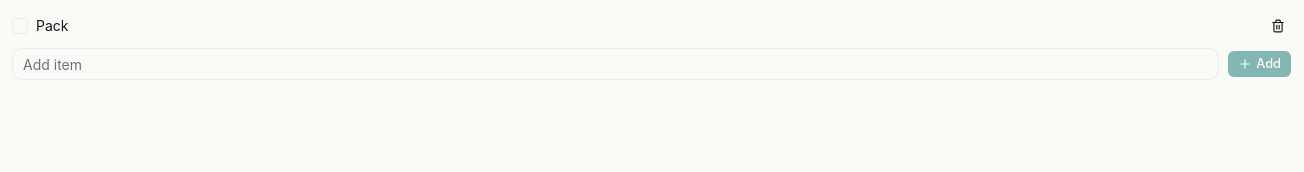
Scenario: ChecklistSection › flags duplicate entries
The width and height of the screenshot is (1304, 172).
In the field with placeholder "Add item": (616, 64) [12,48,1219,80], type "pack"
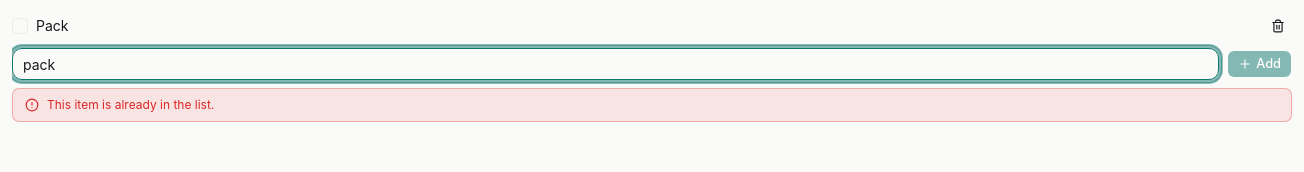
Expected: the message shows "already", [47,97,214,112]
